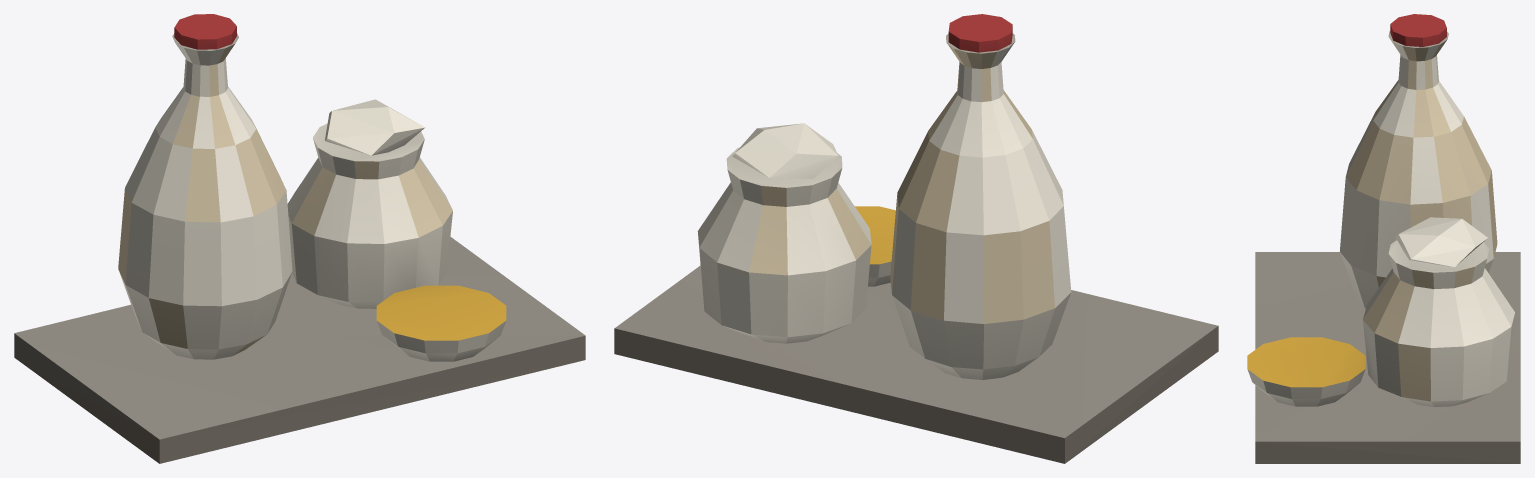
3 renders of one model, left to right at view 1: azimuth 30°, elevation 25°; view 2: azimuth 150°, elevation 25°; view 3: azimuth 270°, elevation 25°, orthographic. The views are drawn at different scales.
Visible parts, largest first — view 1: base; view 2: base; view 3: base.
Boxes of the visible parts, left/top/right/bottom form: base: left=14, top=14, right=585, bottom=463; base: left=614, top=14, right=1218, bottom=463; base: left=1247, top=14, right=1520, bottom=463.
Bounding box in the file's own units: 0.44 × 0.334 × 0.2679.
